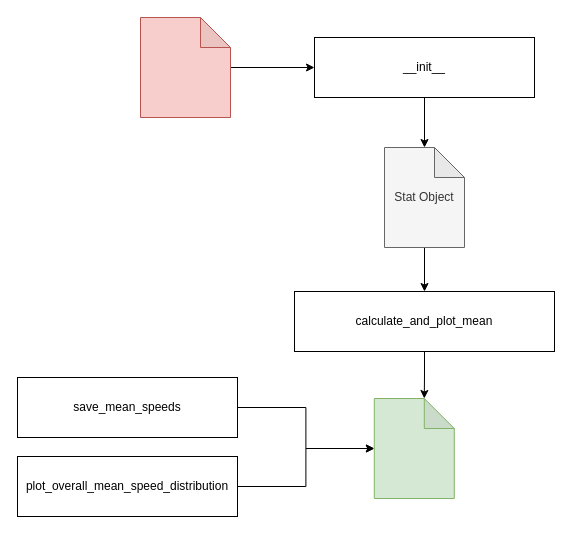
Image size: 572x534. Some labels were removed from this diagram. Each missing label, with the box of its shape:
Stat Object (with stat objects): (373, 398, 454, 498)
Track Object (previously made): (140, 16, 230, 118)
